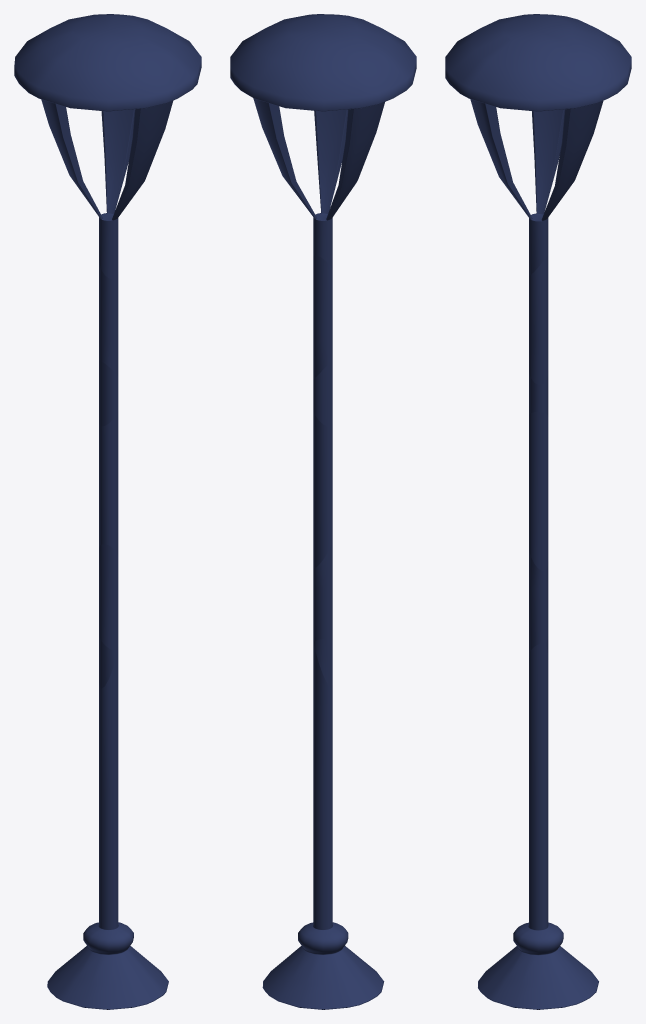
File: LampadaireFrac.fbx
3 renders of one model, left to right at view 1: azimuth 30°, elevation 25°; view 2: azimuth 150°, elevation 25°; view 3: azimuth 270°, elevation 25°, orthographic.
Visible parts, largest first — view 1: lampadaire6, lampadaire7, lampadaire5, lampadaire4, lampadaire3, lampadaire1, lampadaire2; view 2: lampadaire6, lampadaire7, lampadaire5, lampadaire3, lampadaire4, lampadaire1, lampadaire2; view 3: lampadaire6, lampadaire7, lampadaire5, lampadaire3, lampadaire4, lampadaire1.
Part boxes in pixels (<box>): lampadaire6: <box>14,14,201,278</box>; lampadaire7: <box>47,647,168,1009</box>; lampadaire5: <box>99,410,118,556</box>; lampadaire4: <box>99,544,118,650</box>; lampadaire3: <box>99,261,118,376</box>; lampadaire1: <box>99,360,118,426</box>; lampadaire2: <box>99,636,117,688</box>; lampadaire6: <box>230,14,416,269</box>; lampadaire7: <box>262,641,384,1009</box>; lampadaire5: <box>313,410,332,568</box>; lampadaire3: <box>313,255,332,379</box>; lampadaire4: <box>313,542,332,641</box>; lampadaire1: <box>313,360,332,426</box>; lampadaire2: <box>314,639,332,687</box>; lampadaire6: <box>445,14,631,275</box>; lampadaire7: <box>478,643,598,1009</box>; lampadaire5: <box>529,412,548,570</box>; lampadaire3: <box>529,253,548,384</box>; lampadaire4: <box>529,550,548,650</box>; lampadaire1: <box>529,370,548,416</box>.
Bounding box in the file's own units: 3.12 × 17.48 × 3.1.
